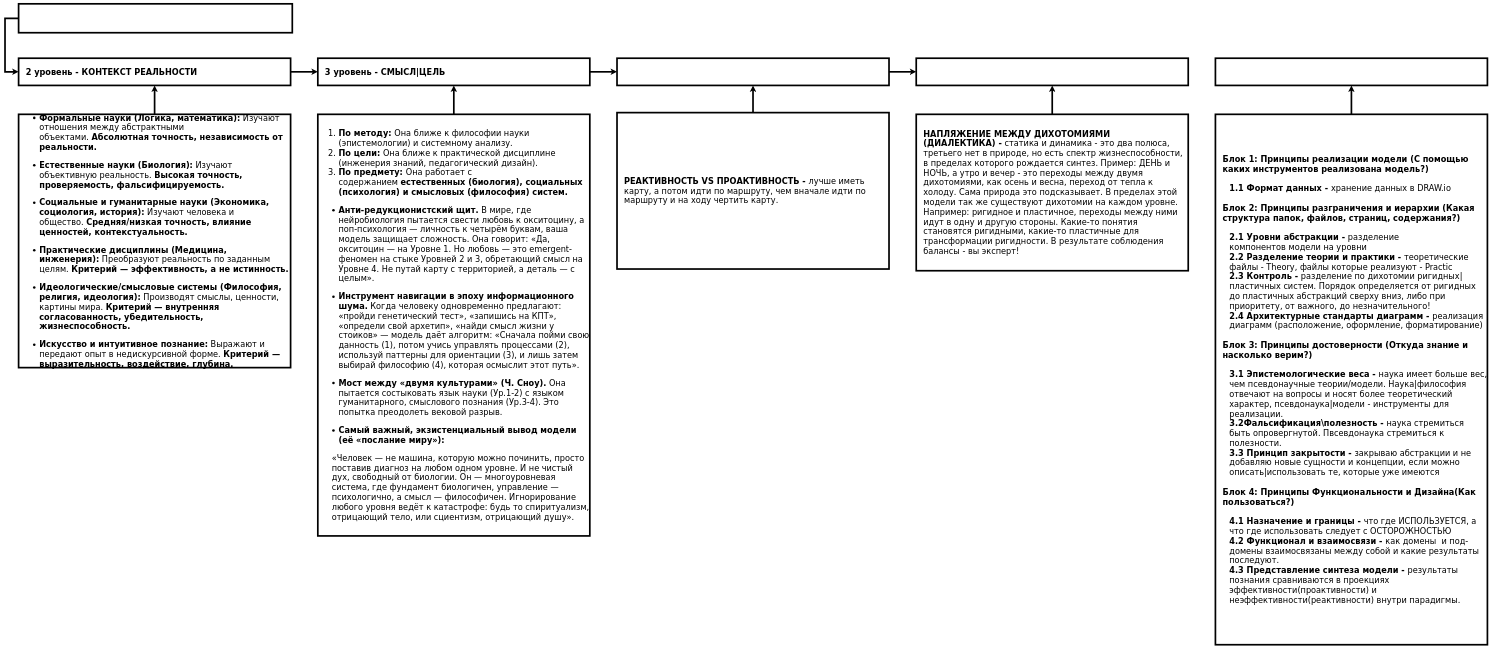
Some shapes in this 1491 by 648 pixel diagram are drawn without their labels. Each missing label, with the centre of its shape:
"4 уровень - ЦЕННОСТИ" goes at (x=753, y=71).
"5 уровень - УБЕЖДЕНИЯ" goes at (x=1052, y=71).
"6 уровень - ПРИНЦИПЫ" goes at (x=1351, y=71).
"Архитектурные неизменности вертикали в рамках этой модели" goes at (x=155, y=18).
